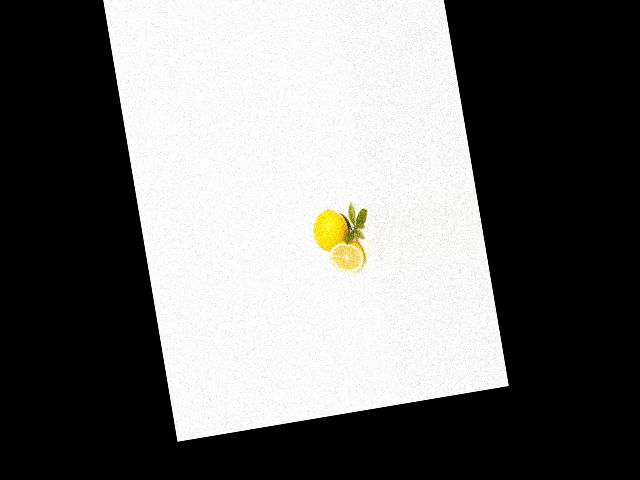lemon: (307, 202, 350, 253)
